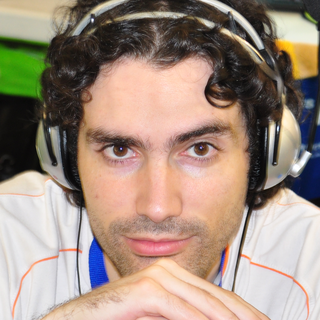eye: (173, 136, 225, 162), (92, 140, 143, 166)
